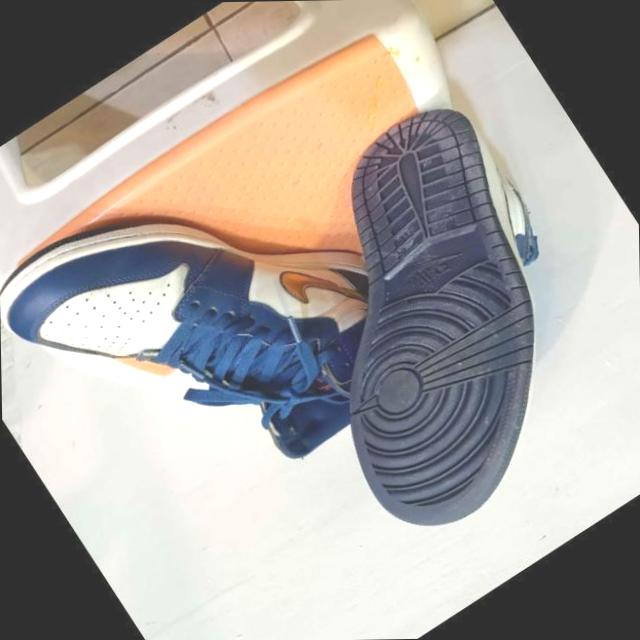nike_fake_jordan: (0, 83, 471, 556)
